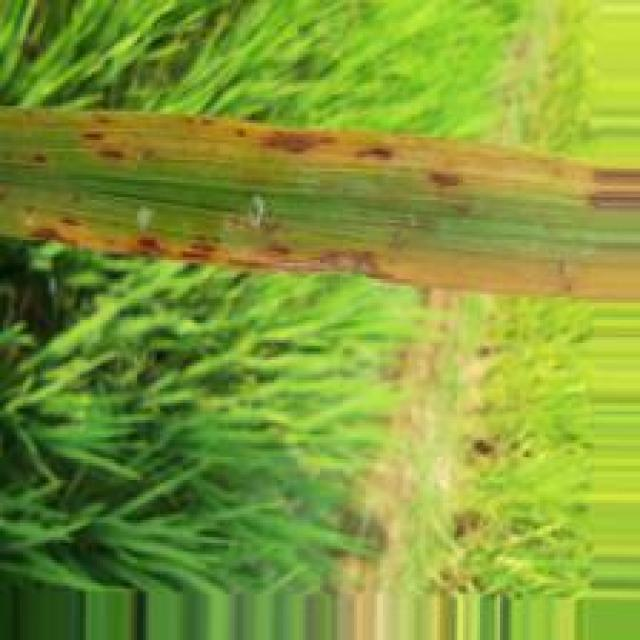Narrow_Brown_Leaf_Spot: (0, 106, 640, 309)
